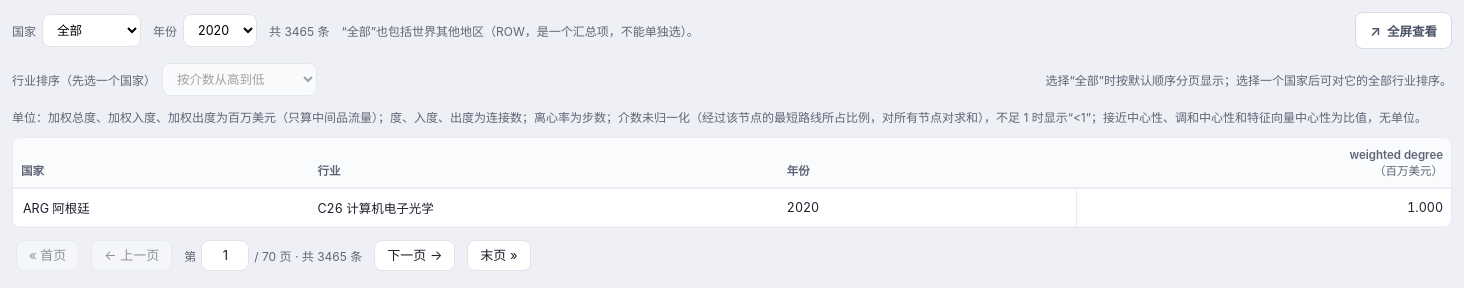
RSTEP02 step 5 forgets global range when returning from a pending country request and ignores its late response
Expected: the number of column headings with class "indicator-row-header" is 1, [13, 189, 310, 226]
Select "CHN 中国" in the dropdown labelled "国家" at (92, 30), box [42, 14, 141, 47]
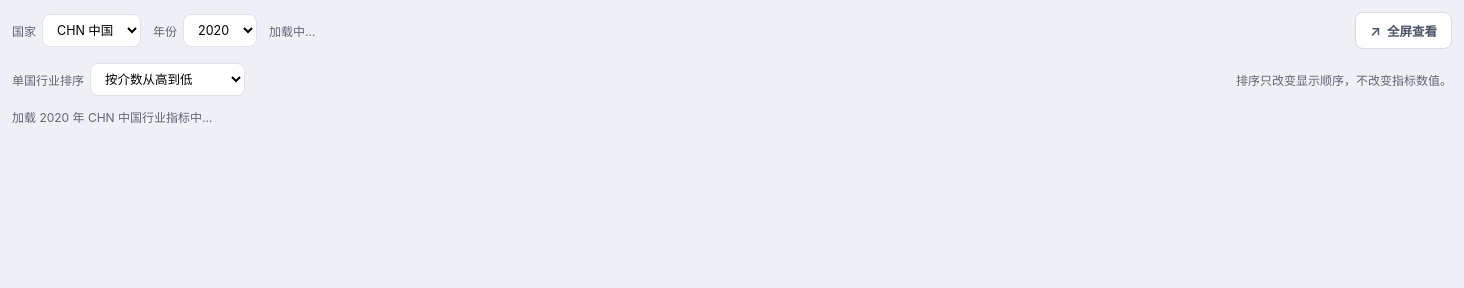
Select "全部" in the dropdown labelled "国家" at (92, 30), box [42, 14, 141, 47]
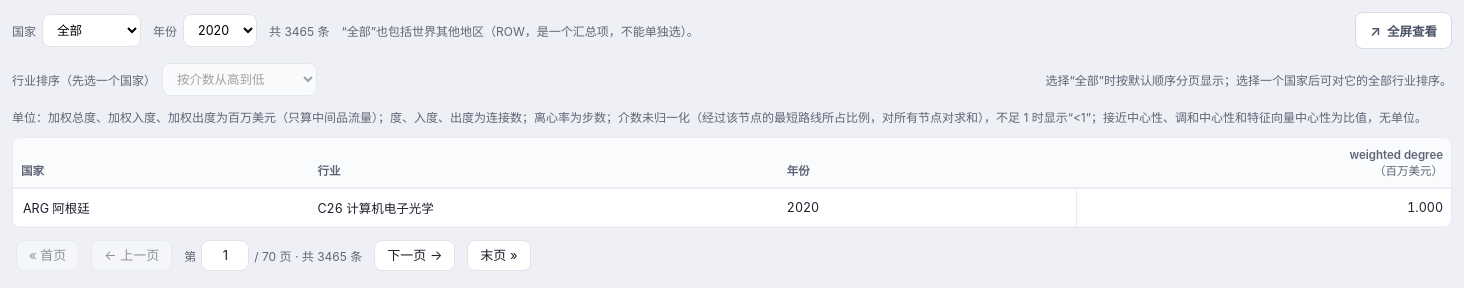
Now the number of column headings with class "indicator-row-header" is 1, box [13, 189, 310, 226]
Now the button "下一页 →" is shown, box [374, 240, 455, 271]
